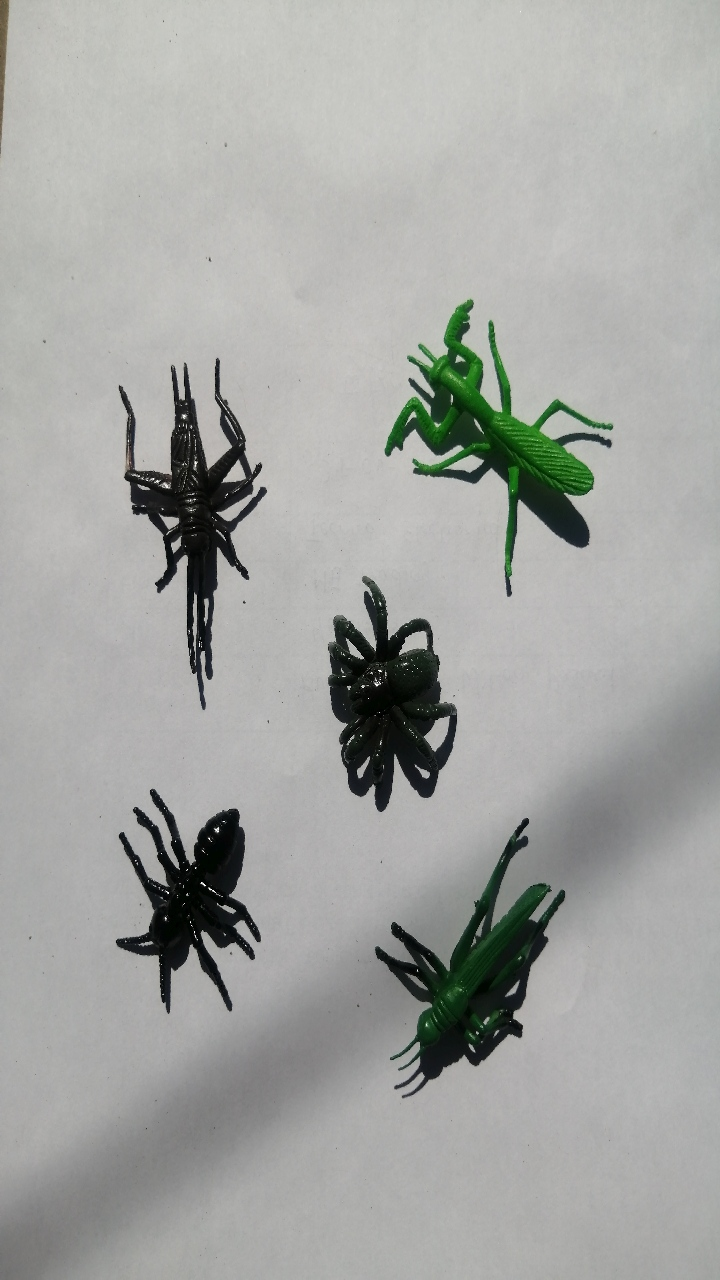intruso: (372, 254, 632, 591), (75, 299, 268, 688), (351, 792, 581, 1105), (88, 752, 311, 1017), (283, 545, 478, 829)
